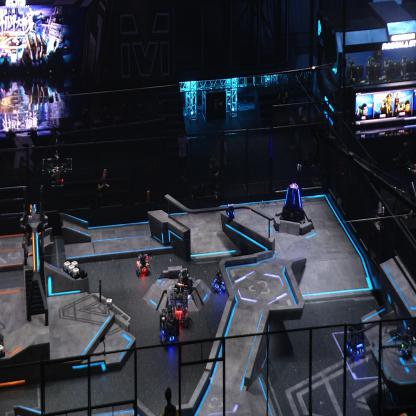car: (342, 321, 366, 362), (169, 282, 189, 326), (159, 306, 180, 347), (134, 251, 151, 277), (212, 269, 226, 294)
